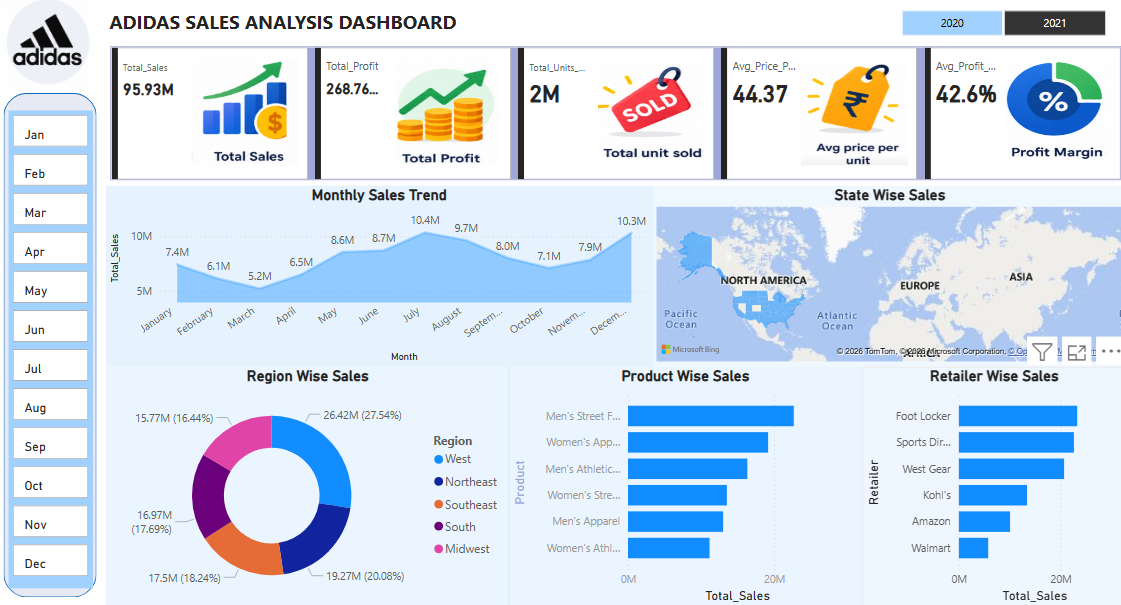

This screenshot's page, from the dashboard's own definition file:
{"tool":"powerbi","page":{"name":"Page 1","canvas":[1280,720],"ordinal":0},"visuals":[{"type":"cardVisual","fields":{"Data":["Data Sales Adidas.Total_Sales","Data Sales Adidas.Total_Profit","Data Sales Adidas.Total_Units_Sold","Data Sales Adidas.Avg_Price_Per_Unit","Data Sales Adidas.Avg_Profit_Margin"]},"box":[128.9,82.9,1151.3,161.8],"z":0},{"type":"textbox","box":[128.6,40.5,417.9,42.9],"z":1000},{"type":"image","box":[0,23.7,128.9,117.1],"z":2000},{"type":"shape","box":[14.5,141.2,105,568.2],"z":3000},{"type":"areaChart","title":"Monthly Sales Trend","fields":{"Category":["Data Sales Adidas.Invoice Date.Variation.Date Hierarchy.Month"],"Y":["Data Sales Adidas.Total_Sales"]},"box":[128.9,244.7,615.8,203.9],"z":4000},{"type":"filledMap","title":"State Wise Sales","fields":{"Category":["Data Sales Adidas.State"]},"box":[744.4,244.9,535.7,203.9],"z":5000},{"type":"actionButton","box":[0,0,100,40],"z":6000},{"type":"donutChart","title":"Region Wise Sales","fields":{"Category":["Data Sales Adidas.Region"],"Y":["Data Sales Adidas.Total_Sales"]},"box":[129.1,448.8,454.8,271.4],"z":7000},{"type":"clusteredBarChart","title":" Product Wise Sales","fields":{"Category":["Data Sales Adidas.Product"],"Y":["Data Sales Adidas.Total_Sales"]},"box":[583.3,448.8,398.8,271.4],"z":8000},{"type":"clusteredBarChart","title":"Retailer Wise Sales","fields":{"Y":["Data Sales Adidas.Total_Sales"],"Category":["Data Sales Adidas.Retailer"]},"box":[982,448.8,298,271.4],"z":9000},{"type":"slicer","fields":{"Values":["Data Sales Adidas.Invoice Date.Variation.Date Hierarchy.Year"]},"box":[1000.1,41,279.9,42.2],"z":10000},{"type":"advancedSlicerVisual","fields":{"Values":["Data Sales Adidas.Month"]},"box":[19.3,160.5,95.3,538.1],"z":11000}]}

Visuals, with their boxes on the page's 1280x720 design canvas (x1, y1, x2, y2). These are canvas units, not pixel positions in the 1121x605 screenshot, which may show the page scaled, cropped or inside an application window:
cardVisual - Data Sales Adidas.Total_Sales x Data Sales Adidas.Total_Profit: 129, 83, 1280, 245
textbox: 129, 40, 546, 83
image: 0, 24, 129, 141
shape: 14, 141, 120, 709
"Monthly Sales Trend" areaChart: 129, 245, 745, 449
"State Wise Sales" filledMap: 744, 245, 1280, 449
actionButton: 0, 0, 100, 40
"Region Wise Sales" donutChart: 129, 449, 584, 720
" Product Wise Sales" clusteredBarChart: 583, 449, 982, 720
"Retailer Wise Sales" clusteredBarChart: 982, 449, 1280, 720
slicer - Data Sales Adidas.Invoice Date.Variation.Date Hierarchy.Year: 1000, 41, 1280, 83
advancedSlicerVisual - Data Sales Adidas.Month: 19, 160, 115, 699
